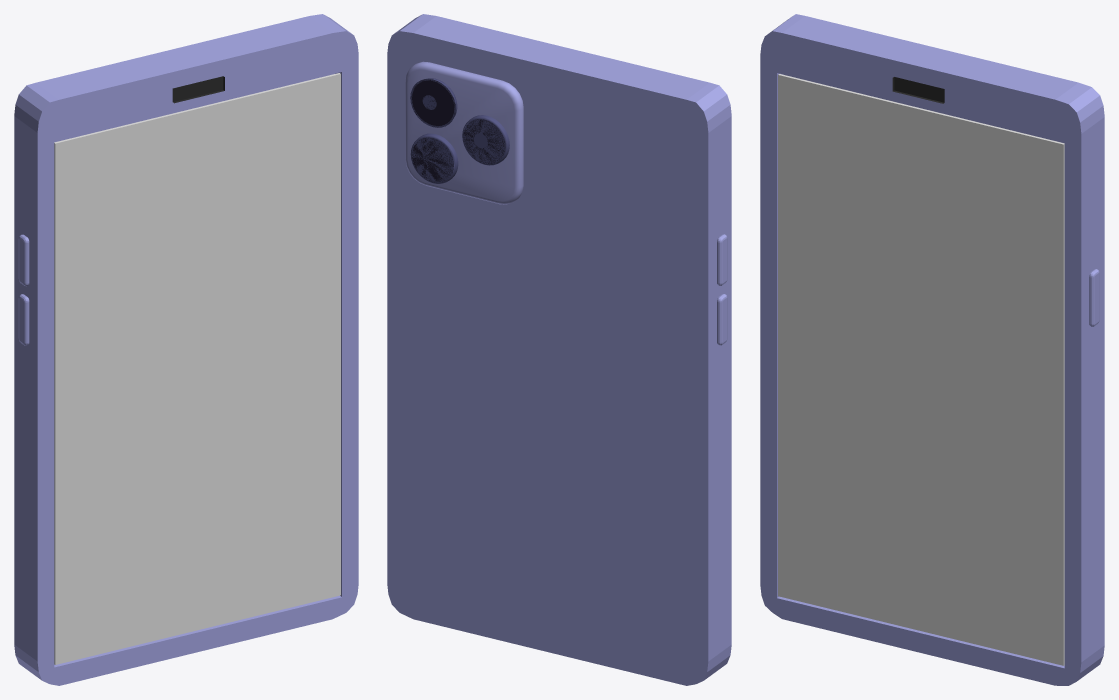
The model's file is Phone.fbx.
The picture shows the model from 3 angles, left to right: view 1: azimuth 30°, elevation 25°; view 2: azimuth 150°, elevation 25°; view 3: azimuth 330°, elevation 25°; orthographic projection.
Parts seen in each view (by area): view 1: Screen, Phone, Button_sub, Button.002, Button.001; view 2: Phone, Plane, lens_3, lens_2, lens_1, Button.001, Button.002; view 3: Screen, Phone, Button_sub, Button.003.
Boxes of the visible parts, left/top/right/bottom form: Screen: left=54, top=73, right=340, bottom=664; Phone: left=14, top=14, right=358, bottom=685; Button_sub: left=172, top=76, right=224, bottom=103; Button.002: left=18, top=294, right=29, bottom=345; Button.001: left=18, top=234, right=29, bottom=286; Phone: left=387, top=14, right=731, bottom=685; Plane: left=405, top=61, right=523, bottom=204; lens_3: left=462, top=115, right=509, bottom=165; lens_2: left=410, top=133, right=458, bottom=183; lens_1: left=410, top=78, right=457, bottom=127; Button.001: left=717, top=234, right=727, bottom=285; Button.002: left=717, top=294, right=727, bottom=345; Screen: left=778, top=74, right=1064, bottom=665; Phone: left=760, top=14, right=1104, bottom=685; Button_sub: left=892, top=77, right=944, bottom=103; Button.003: left=1089, top=269, right=1099, bottom=326.
Bounding box in the file's own units: 70.85 × 120 × 13.25.
